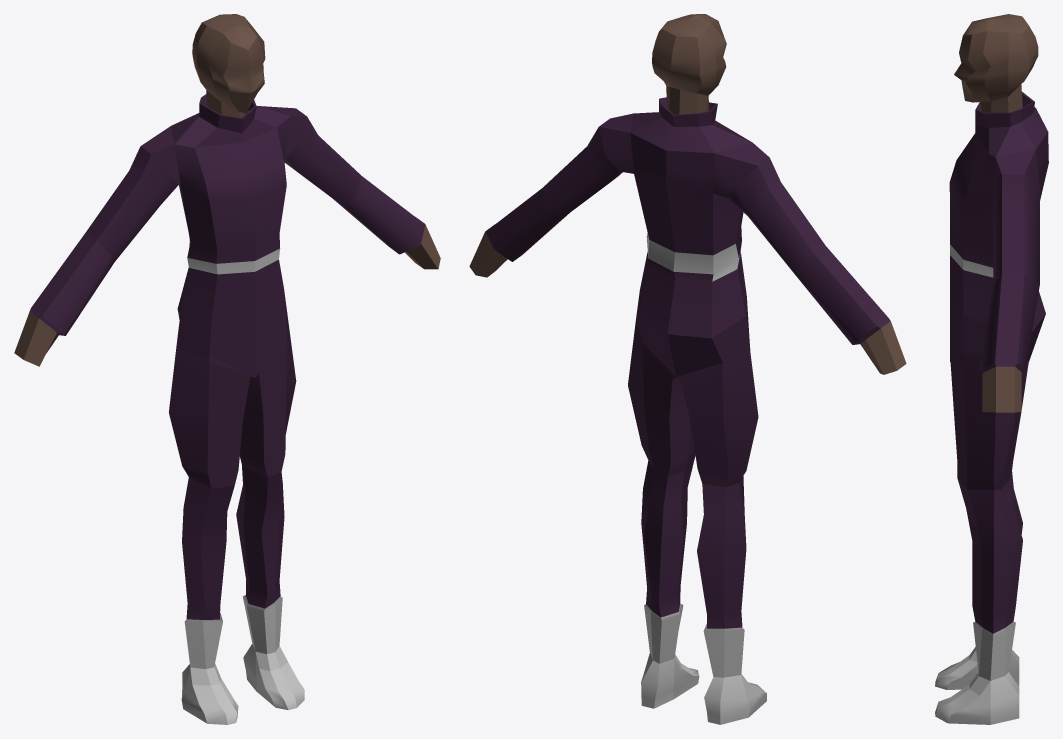
The model's file is lan just lan.fbx.
3 renders of one model, left to right at view 1: azimuth 30°, elevation 25°; view 2: azimuth 150°, elevation 25°; view 3: azimuth 270°, elevation 25°, orthographic. The views are drawn at different scales.
Parts seen in each view (by area): view 1: pCylinder1; view 2: pCylinder1; view 3: pCylinder1.
Boxes of the visible parts, x1,y1,x2,y2 form: pCylinder1: [14, 14, 440, 724]; pCylinder1: [469, 14, 906, 724]; pCylinder1: [935, 14, 1048, 724].
Bounding box in the file's own units: 7.16 × 11.04 × 1.67.
